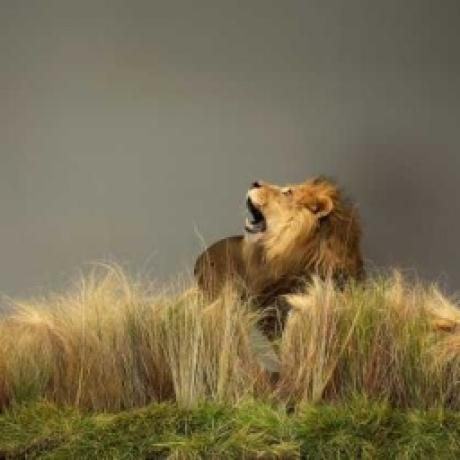Lion: (193, 172, 365, 317)
